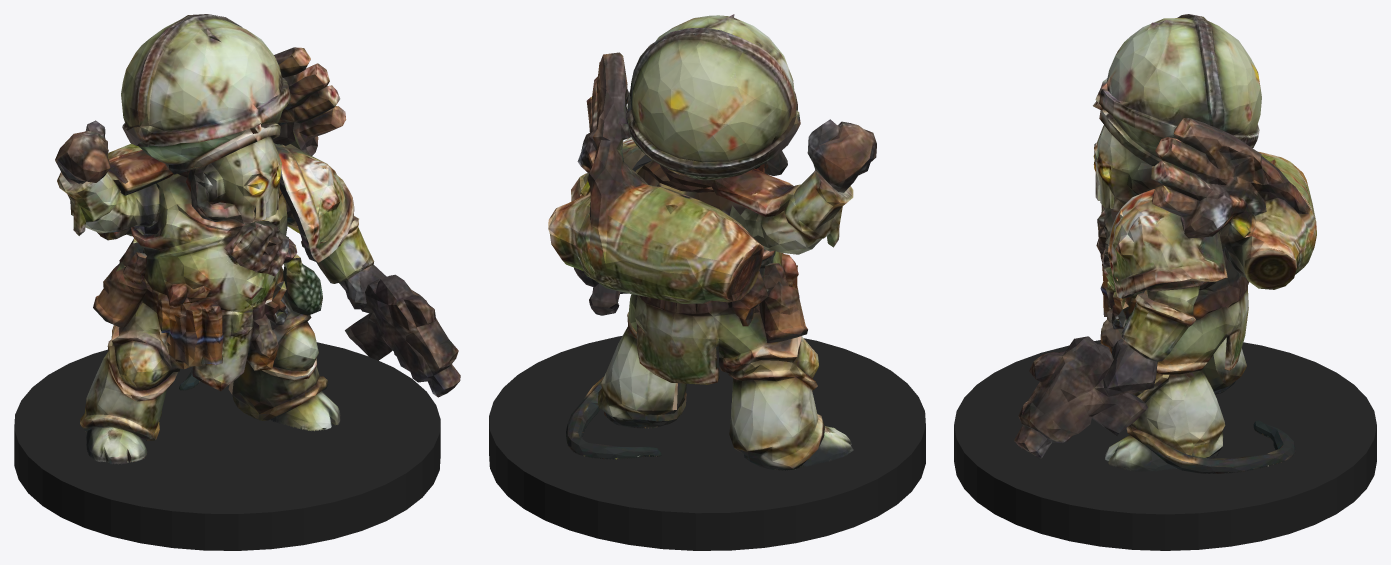
The model's file is pm-plague-marine-bombardier.glb.
The picture shows the model from 3 angles, left to right: view 1: azimuth 30°, elevation 25°; view 2: azimuth 150°, elevation 25°; view 3: azimuth 270°, elevation 25°; orthographic projection. The views are drawn at different scales.
Visible parts, largest first — view 1: figure, base; view 2: figure, base; view 3: figure, base.
Boxes of the visible parts, <box> form: figure: <box>55,14,460,464</box>; base: <box>14,342,440,550</box>; figure: <box>548,14,876,470</box>; base: <box>489,336,925,550</box>; figure: <box>1014,14,1316,473</box>; base: <box>954,340,1376,550</box>.
Size of the model in its own units: 1.26 by 1.42 by 1.26.
Materials: 2 (1 with a texture image).
